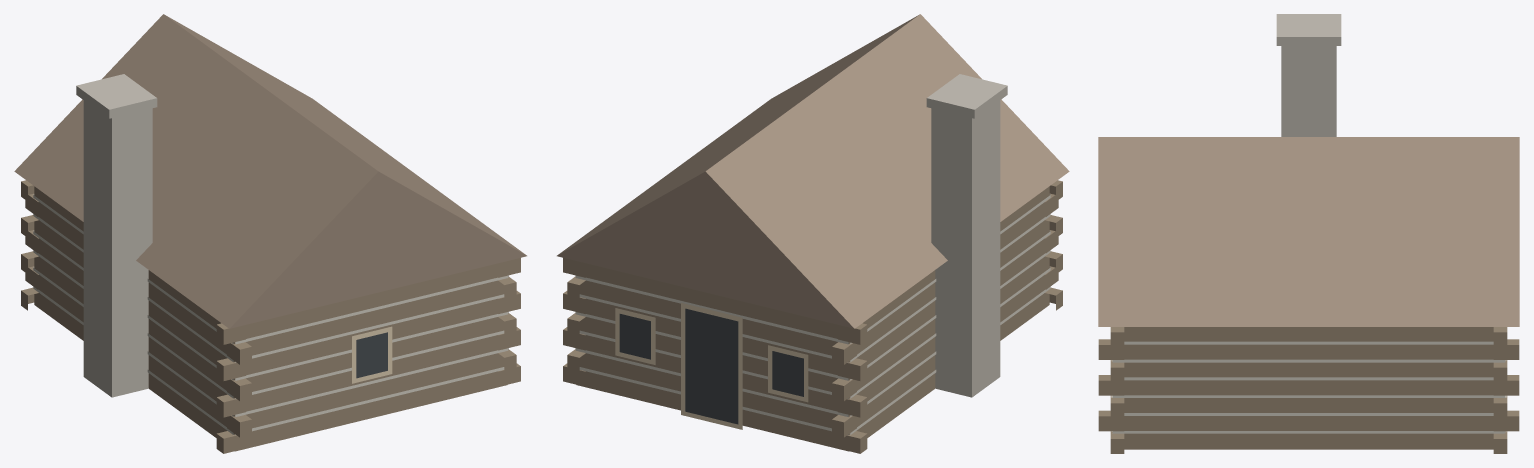
Rendered from recon_1835_blk_south_water_lasalle_d1_04__inferred_1835.glb.
3 renders of one model, left to right at view 1: azimuth 30°, elevation 25°; view 2: azimuth 150°, elevation 25°; view 3: azimuth 270°, elevation 25°, orthographic. The views are drawn at different scales.
Visible parts, largest first — view 1: recon_1835_blk_south_water_lasalle_d1_04__inferred_1835; view 2: recon_1835_blk_south_water_lasalle_d1_04__inferred_1835; view 3: recon_1835_blk_south_water_lasalle_d1_04__inferred_1835.
Boxes of the visible parts, bbox=[...] form: recon_1835_blk_south_water_lasalle_d1_04__inferred_1835: bbox=[14, 14, 526, 453]; recon_1835_blk_south_water_lasalle_d1_04__inferred_1835: bbox=[557, 14, 1069, 453]; recon_1835_blk_south_water_lasalle_d1_04__inferred_1835: bbox=[1098, 14, 1519, 453].
Size of the model in its own units: 6.41 by 5.51 by 7.29.
